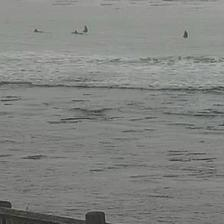surfer: (70, 30, 82, 35), (183, 30, 188, 38), (34, 29, 44, 33), (83, 26, 88, 32)
